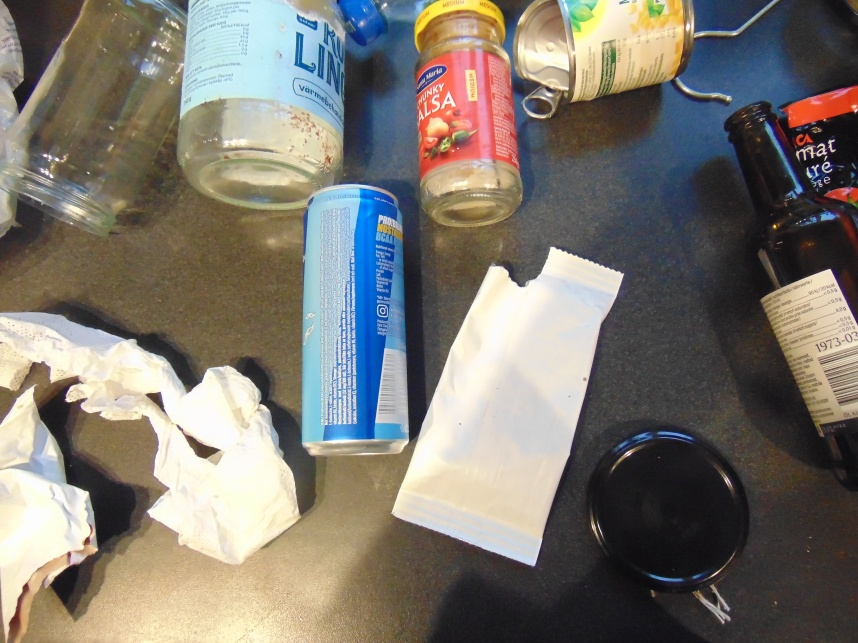glass_bottle: (723, 99, 858, 488), (2, 1, 188, 235), (177, 1, 344, 209), (413, 1, 522, 229)
metal: (585, 427, 748, 592), (677, 1, 777, 103), (781, 79, 858, 202), (511, 3, 569, 118)
metal_can: (296, 184, 410, 457), (550, 1, 695, 105)
plastic_bottle: (339, 1, 431, 45)
